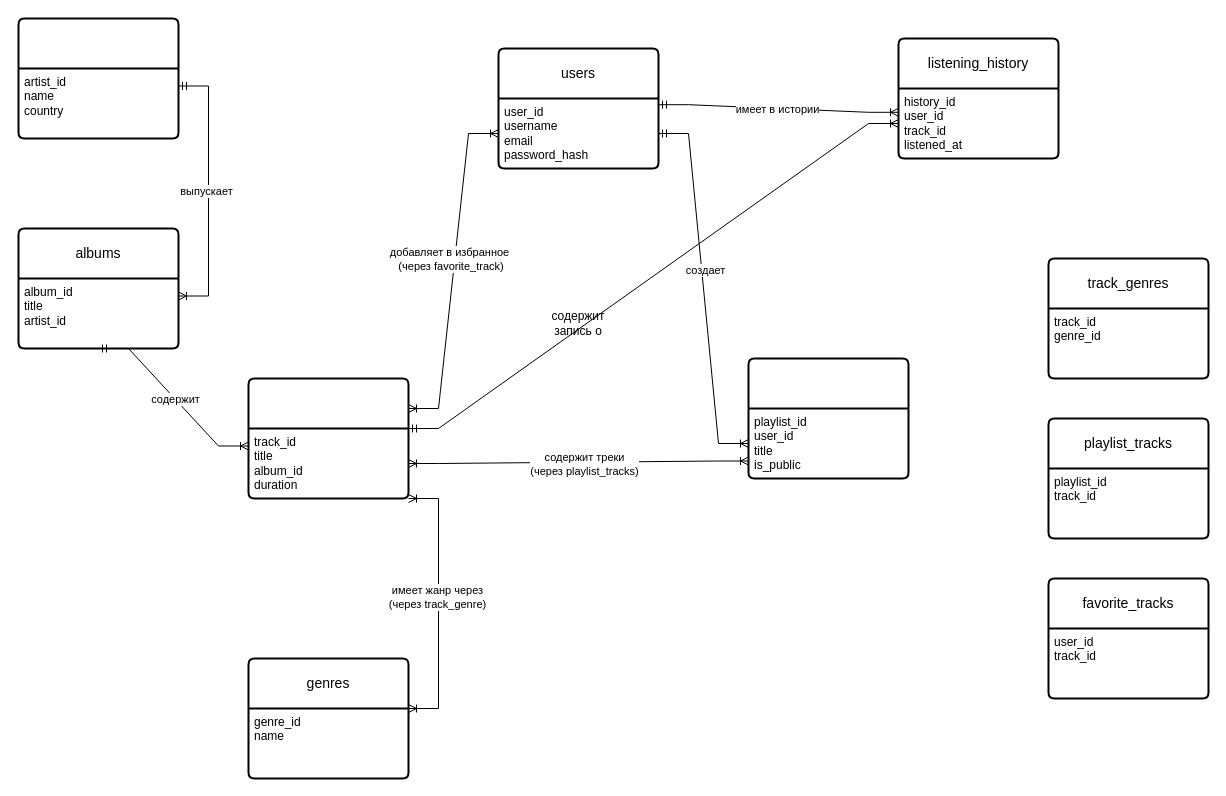
Some shapes in this 1226 by 796 pixel diagram are drawn without their labels. Each missing label, with the box of its shape:
artists: (17, 17, 179, 139)
playlists: (747, 357, 909, 479)
tracks: (247, 377, 409, 499)
